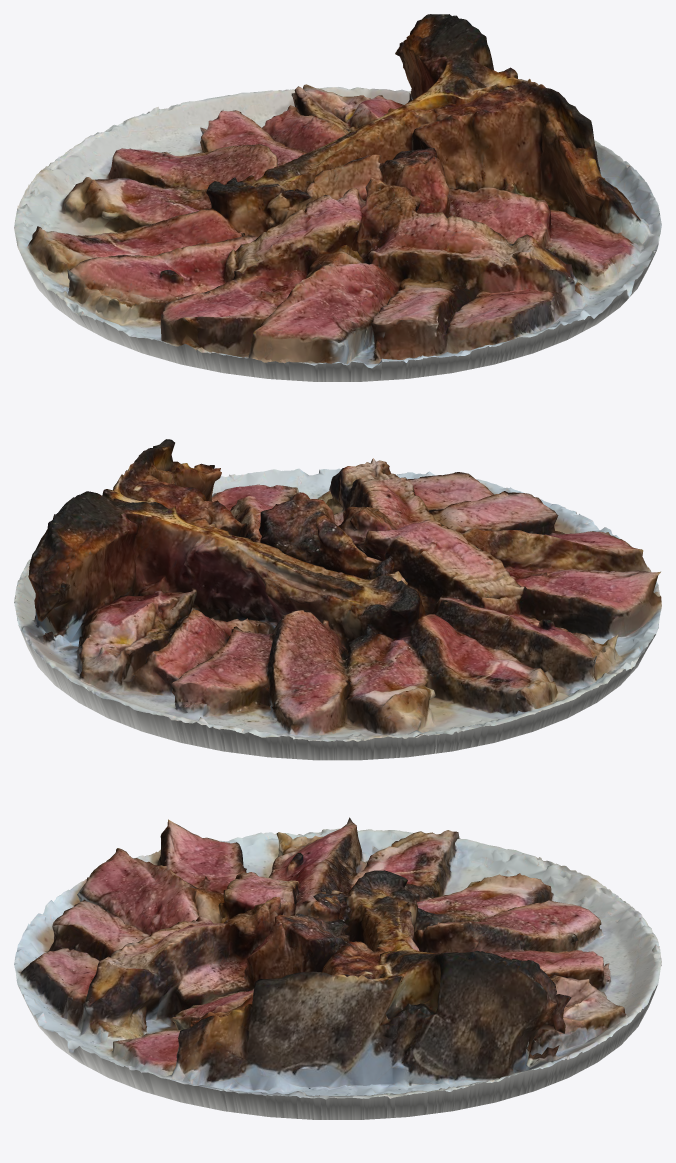
Rendered from bisteca-fiorentina.glb.
3 views of the same model, one above another, from view 1: azimuth 30°, elevation 25°; view 2: azimuth 150°, elevation 25°; view 3: azimuth 270°, elevation 25° (orthographic).
Visible parts, largest first — view 1: FlorenceSteak_Model_3_FlorenceSteak_Model_3_u1_v1_0, FlorenceSteak_Model_3.001_Plate_0; view 2: FlorenceSteak_Model_3_FlorenceSteak_Model_3_u1_v1_0, FlorenceSteak_Model_3.001_Plate_0; view 3: FlorenceSteak_Model_3_FlorenceSteak_Model_3_u1_v1_0, FlorenceSteak_Model_3.001_Plate_0.
Part boxes in pixels (box(x1,y1,x2,y2)): FlorenceSteak_Model_3_FlorenceSteak_Model_3_u1_v1_0: box(14, 14, 661, 368); FlorenceSteak_Model_3.001_Plate_0: box(18, 185, 656, 381); FlorenceSteak_Model_3_FlorenceSteak_Model_3_u1_v1_0: box(14, 439, 661, 741); FlorenceSteak_Model_3.001_Plate_0: box(18, 475, 655, 760); FlorenceSteak_Model_3_FlorenceSteak_Model_3_u1_v1_0: box(14, 817, 661, 1099); FlorenceSteak_Model_3.001_Plate_0: box(18, 859, 661, 1119).
Bounding box in the file's own units: 0.359 × 0.0969 × 0.36.
Materials: 3 (1 with a texture image).
